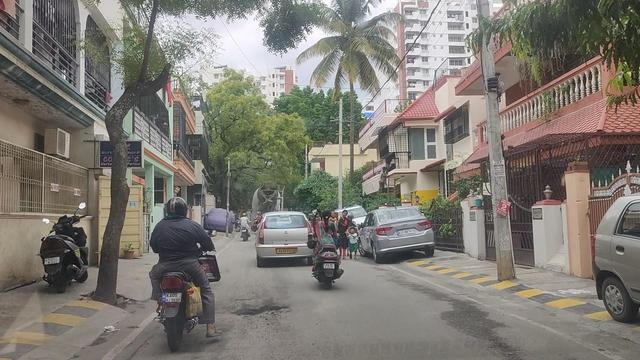LMV: (156, 187, 218, 341), (259, 210, 317, 265), (314, 203, 345, 294)
RoadDamages: (231, 295, 292, 326)
